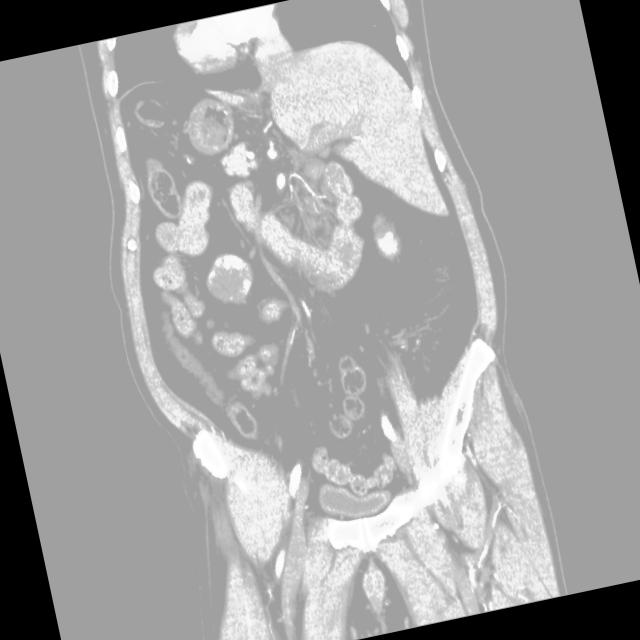TUMOR: (126, 131, 446, 378)
